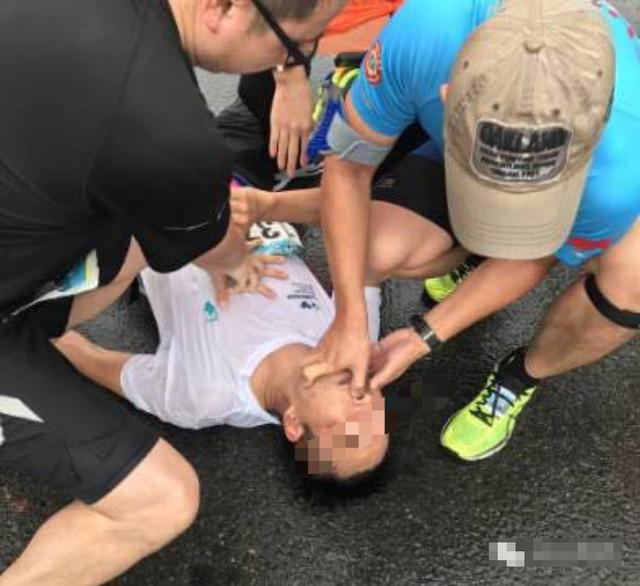fall: (71, 153, 420, 503)
